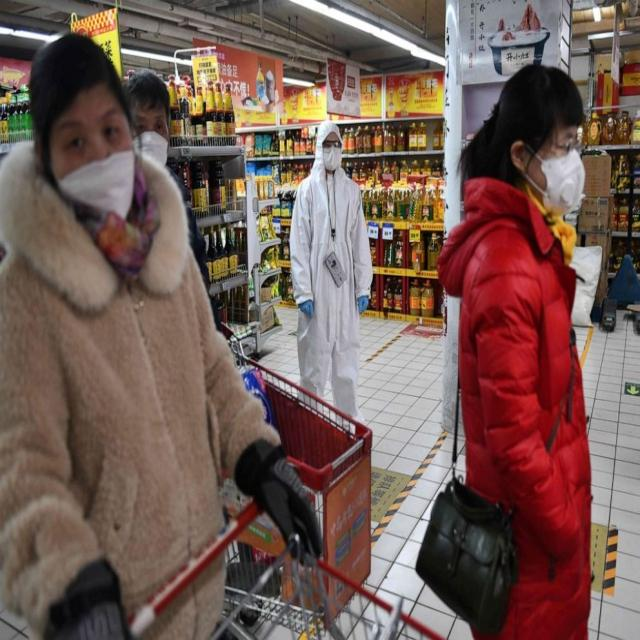mask: (516, 134, 597, 213), (64, 159, 148, 226), (134, 127, 175, 167), (308, 143, 345, 176)
